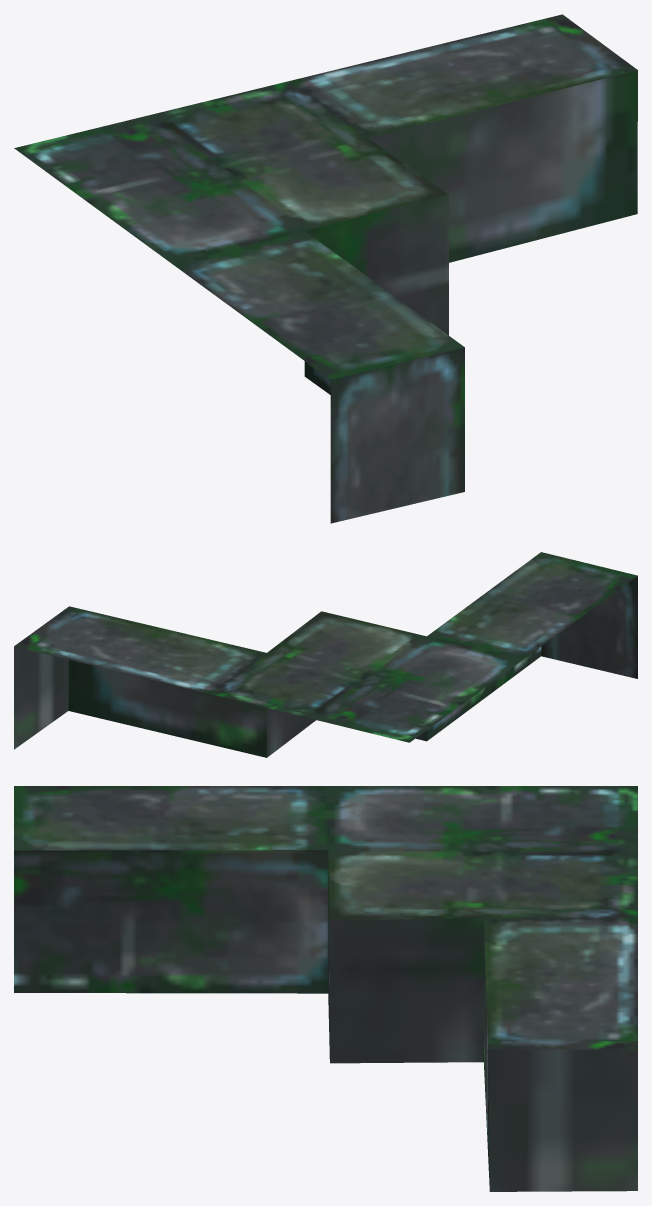
The model's file is stemple_floor_concave_03a.fbx.
3 renders of one model, top to bottom at view 1: azimuth 30°, elevation 25°; view 2: azimuth 150°, elevation 25°; view 3: azimuth 270°, elevation 25°, orthographic. The views are drawn at different scales.
Parts seen in each view (by area): view 1: stemple_floor_concave_03a-0; view 2: stemple_floor_concave_03a-0; view 3: stemple_floor_concave_03a-0.
Part boxes in pixels (x1=…): stemple_floor_concave_03a-0: x1=14, y1=14, x2=637, y2=523; stemple_floor_concave_03a-0: x1=14, y1=552, x2=637, y2=757; stemple_floor_concave_03a-0: x1=14, y1=786, x2=637, y2=1191.
Size of the model in its own units: 2 by 0.5074 by 2.
